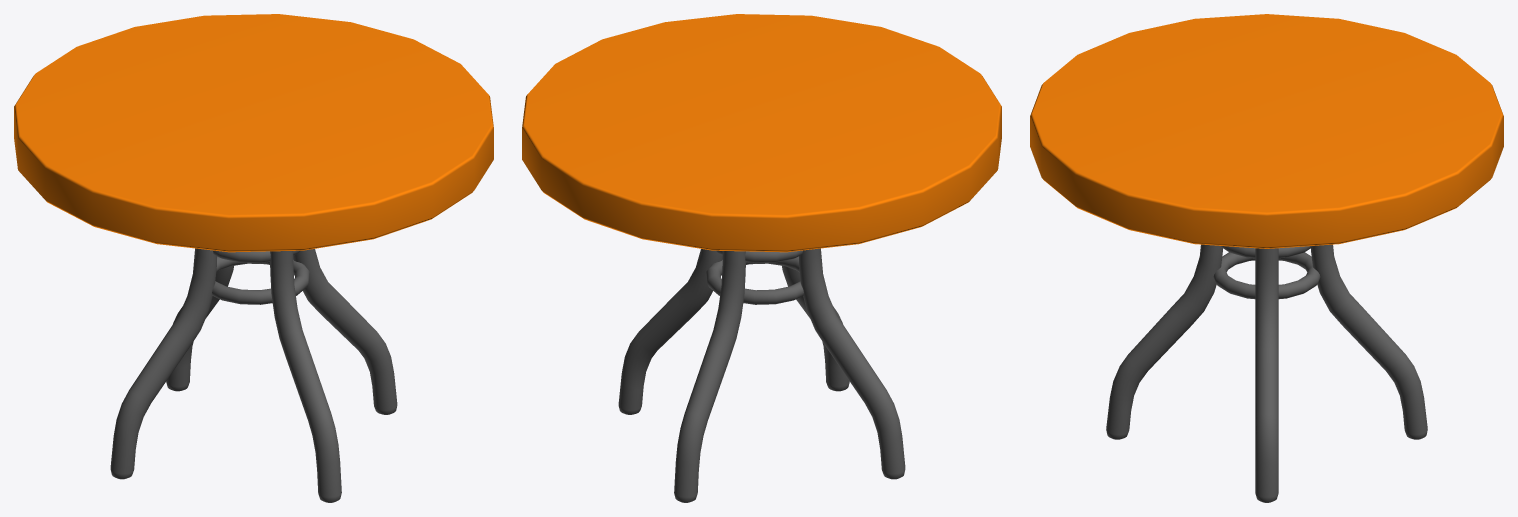
The model's file is City_9_Table_1.glb.
3 renders of one model, left to right at view 1: azimuth 30°, elevation 25°; view 2: azimuth 150°, elevation 25°; view 3: azimuth 270°, elevation 25°, orthographic.
Visible parts, largest first — view 1: City_9_Table_1; view 2: City_9_Table_1; view 3: City_9_Table_1.
Boxes of the visible parts, bbox=[...] form: City_9_Table_1: bbox=[14, 14, 493, 502]; City_9_Table_1: bbox=[522, 14, 1001, 502]; City_9_Table_1: bbox=[1030, 14, 1503, 502].
Size of the model in its own units: 1.15 by 0.8652 by 1.15.
1 material, 1 textured.
